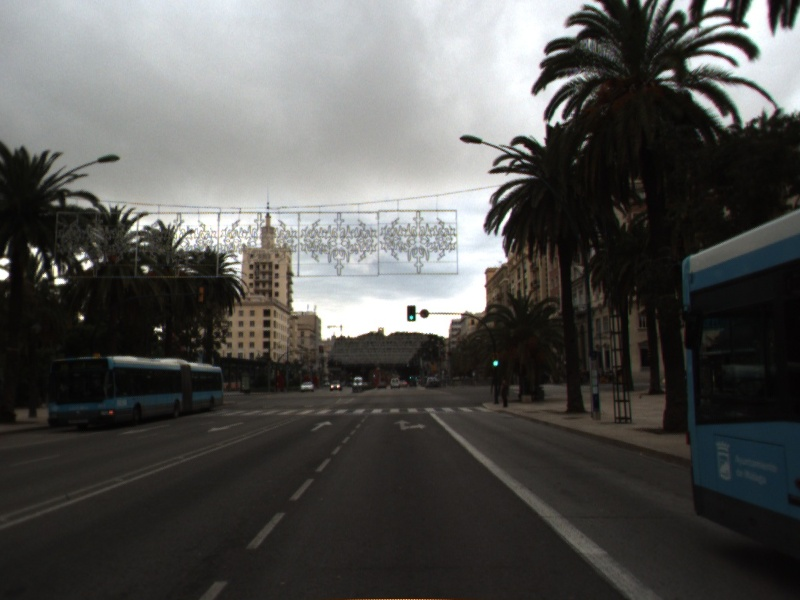STRAIGHT: (308, 419, 335, 433)
STRAIGHT_RIGHT: (392, 418, 429, 432)
